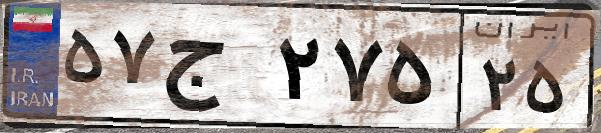2: (270, 28, 330, 110), (475, 38, 525, 113)
5: (385, 28, 445, 110), (57, 26, 110, 100), (525, 38, 570, 115)
7: (330, 28, 385, 110), (110, 28, 158, 98)
ج: (158, 20, 270, 120)
